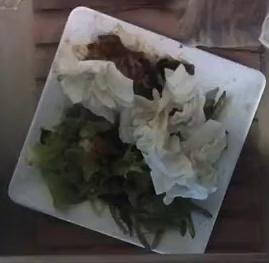salad: (33, 105, 194, 248)
